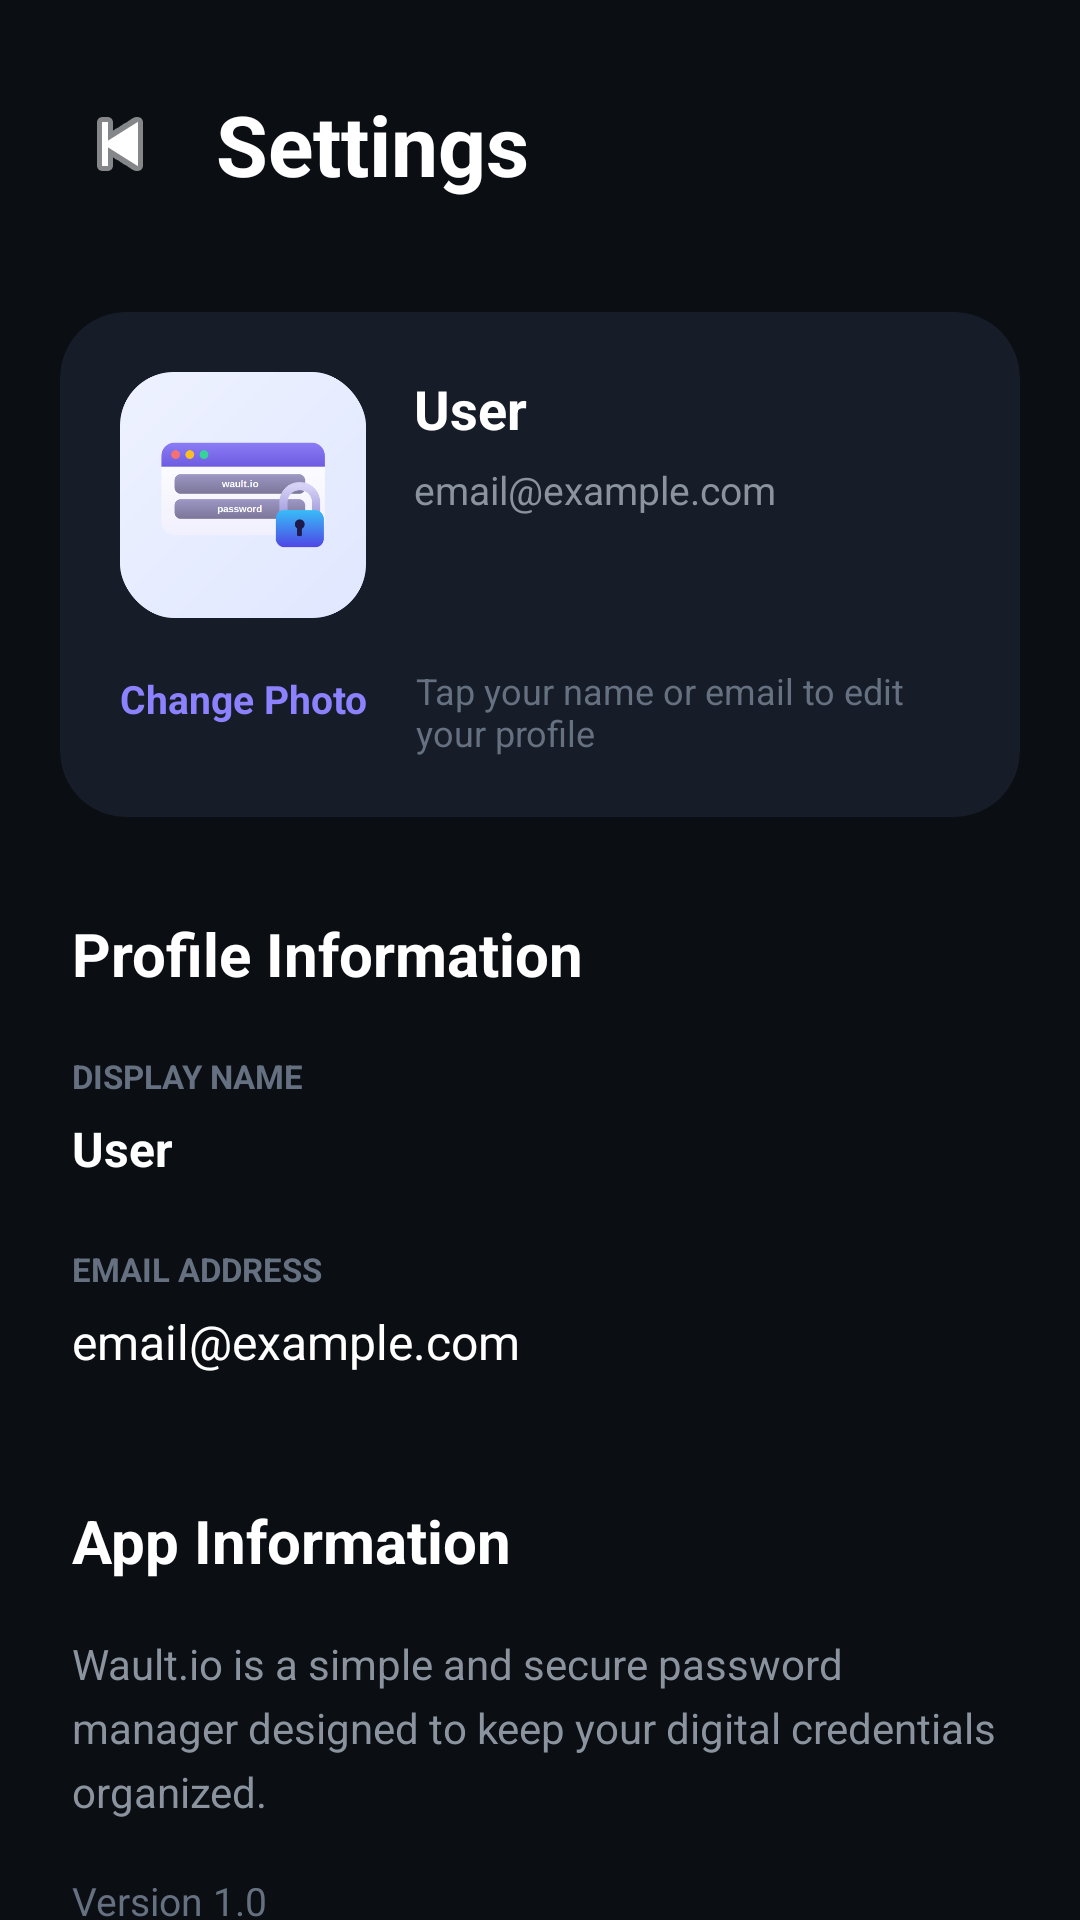

Icons on this 1080px×1920px Android screen, each with its box as region(x1, y1, x2, y2):
Back: region(97, 117, 143, 171)
